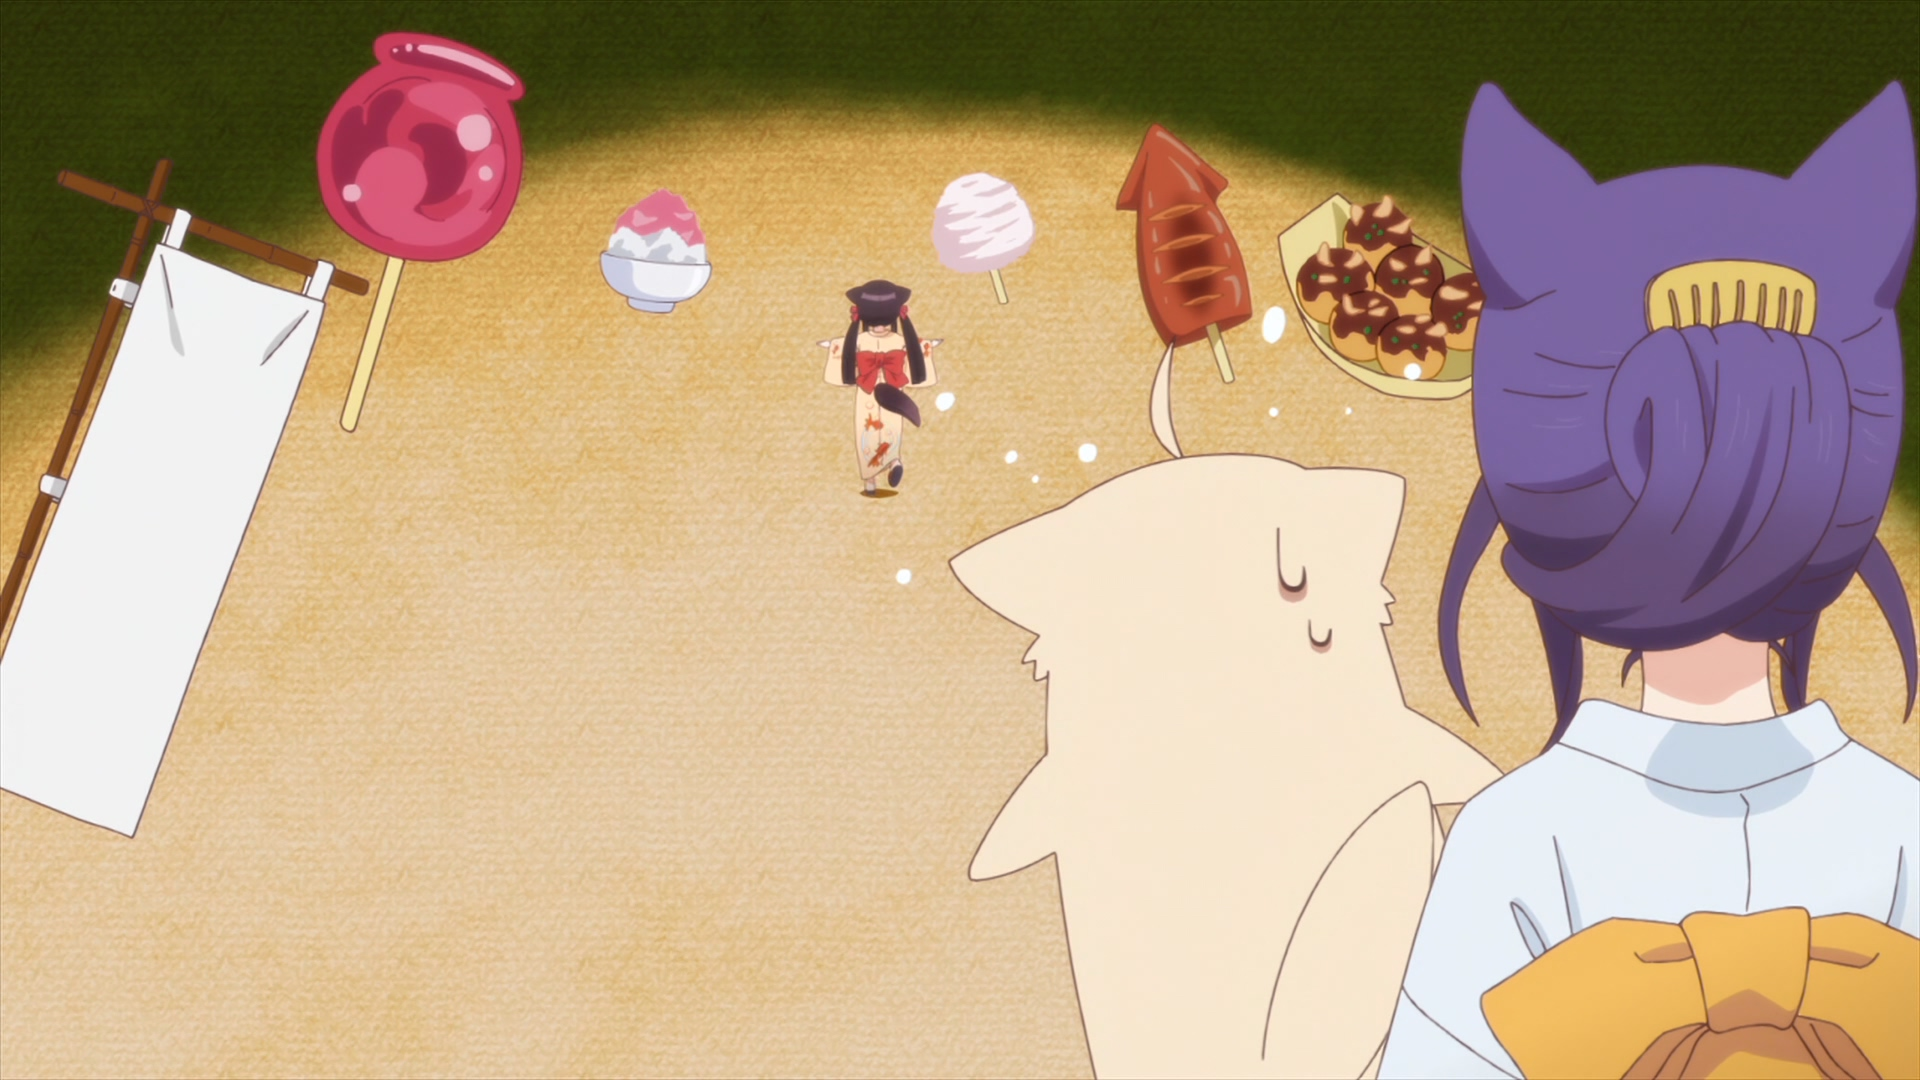柚: (949, 339, 1505, 1080)
樱: (818, 280, 940, 500)
皋: (1374, 76, 1920, 1080)
